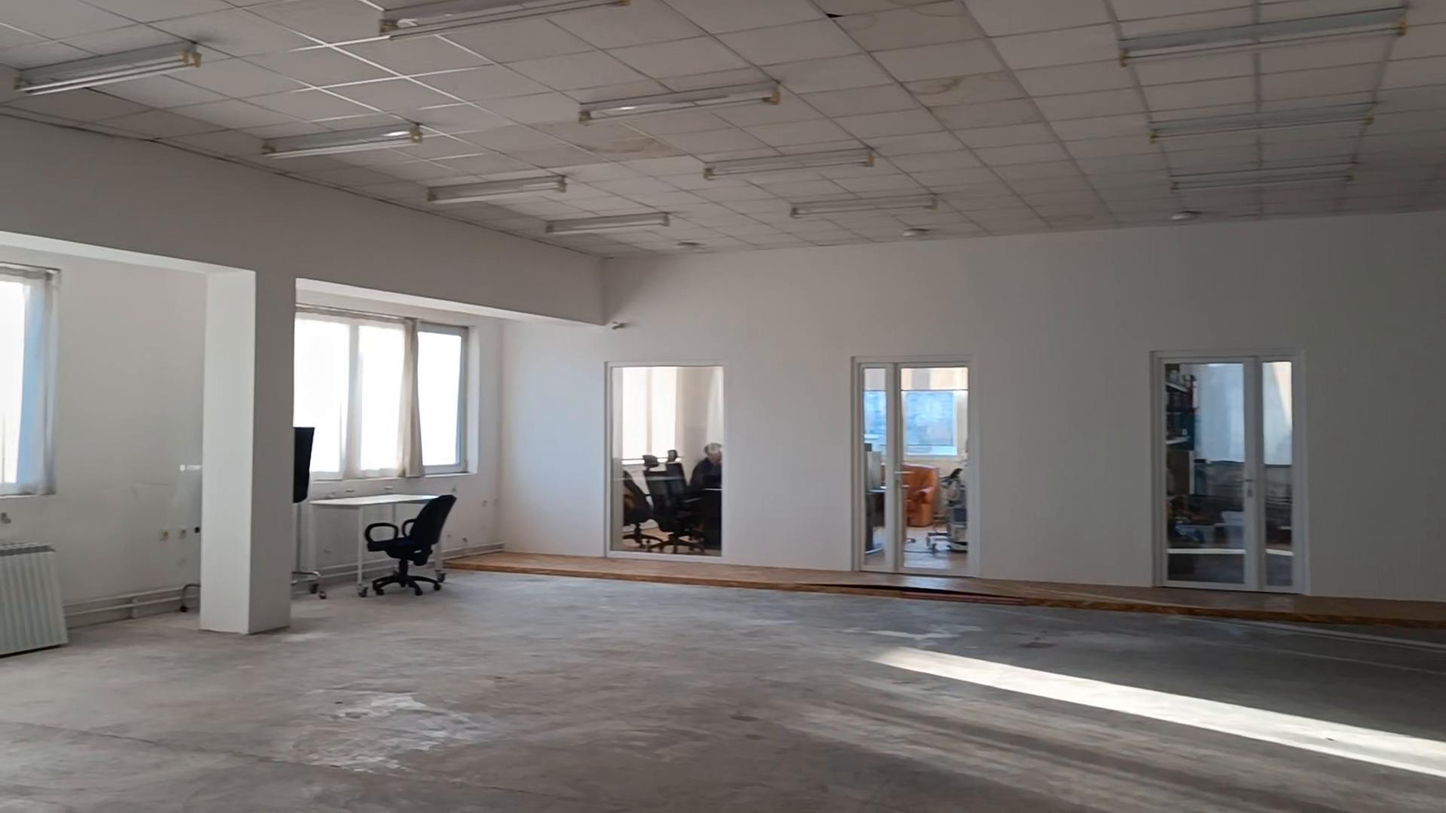ceiling: (0, 0, 1445, 255)
floor: (0, 573, 1445, 812), (454, 548, 1438, 634)
wall: (498, 216, 1442, 602), (0, 118, 604, 639), (60, 272, 203, 619)
